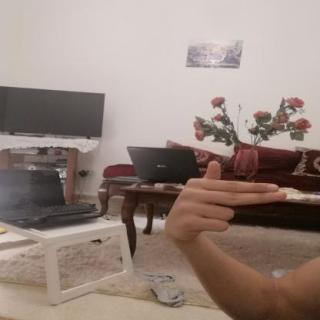GHAYN: (153, 155, 297, 247)
